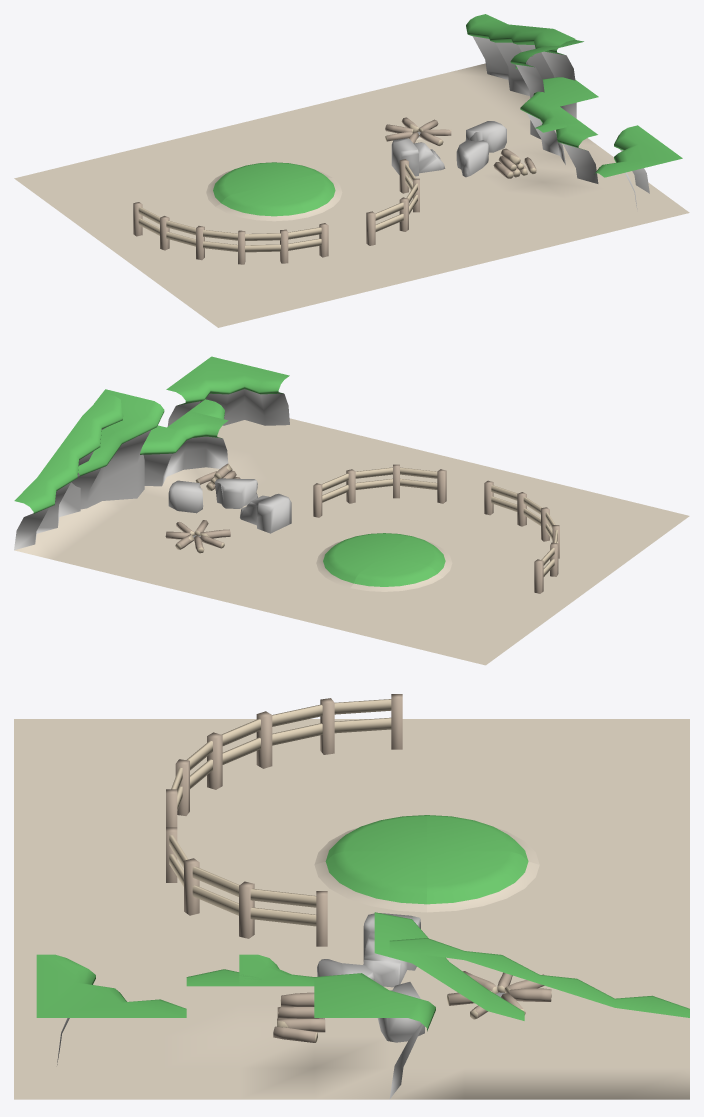
The model's file is juggle_terrain.glb.
3 renders of one model, top to bottom at view 1: azimuth 30°, elevation 25°; view 2: azimuth 150°, elevation 25°; view 3: azimuth 270°, elevation 25°, orthographic. The views are drawn at different scales.
Parts seen in each view (by area): view 1: juggle_terrain; view 2: juggle_terrain; view 3: juggle_terrain.
Boxes of the visible parts, left/top/right/bottom form: juggle_terrain: left=14, top=14, right=689, bottom=327; juggle_terrain: left=14, top=356, right=689, bottom=665; juggle_terrain: left=14, top=694, right=689, bottom=1099.
Size of the model in its own units: 12.1 by 2.29 by 9.
